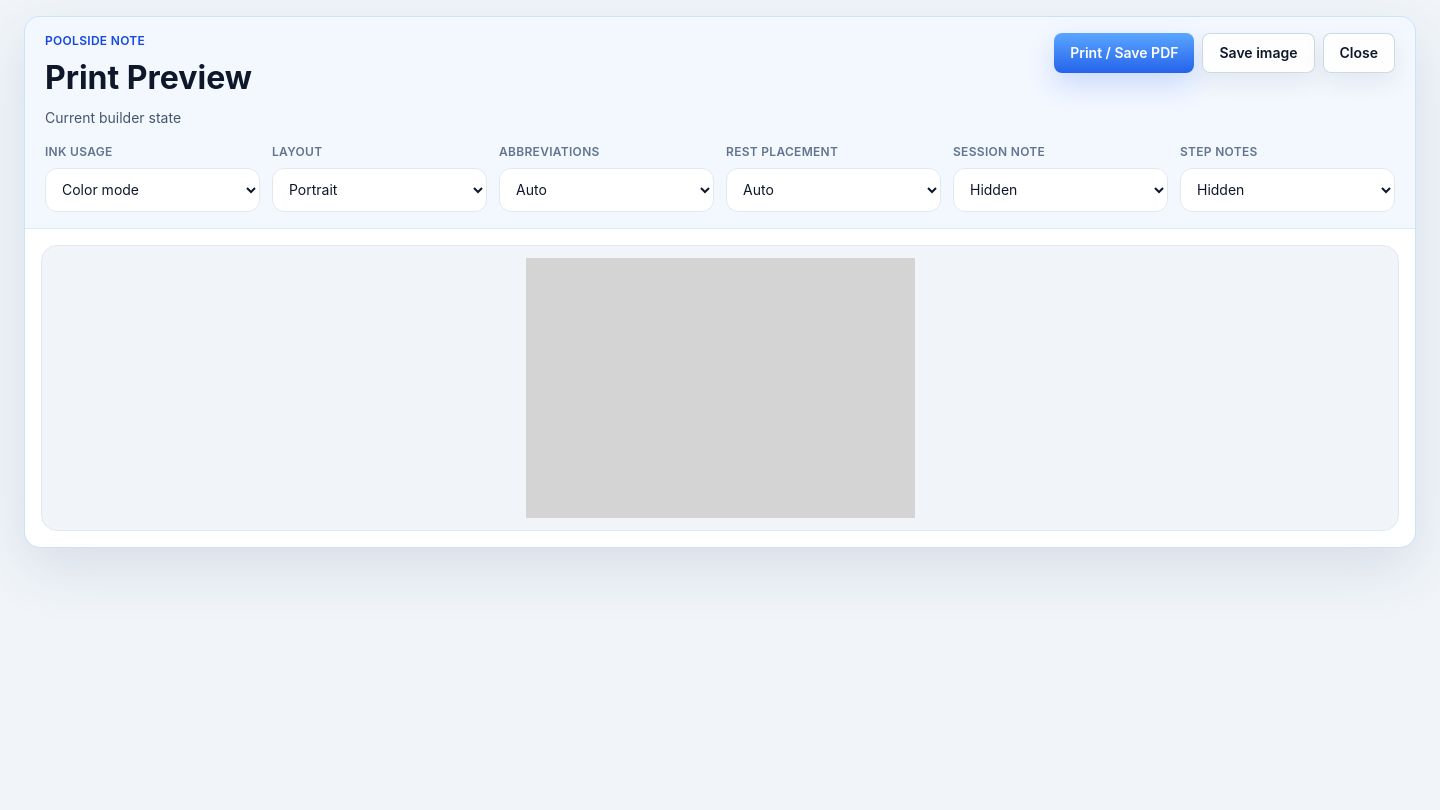
Scenario: PoolsidePreviewPageClient › uses native share on coarse-pointer devices when file sharing is available
Click the button with test id "poolside-preview-save-image". click: (1258, 53)
box: [1202,33,1314,73]
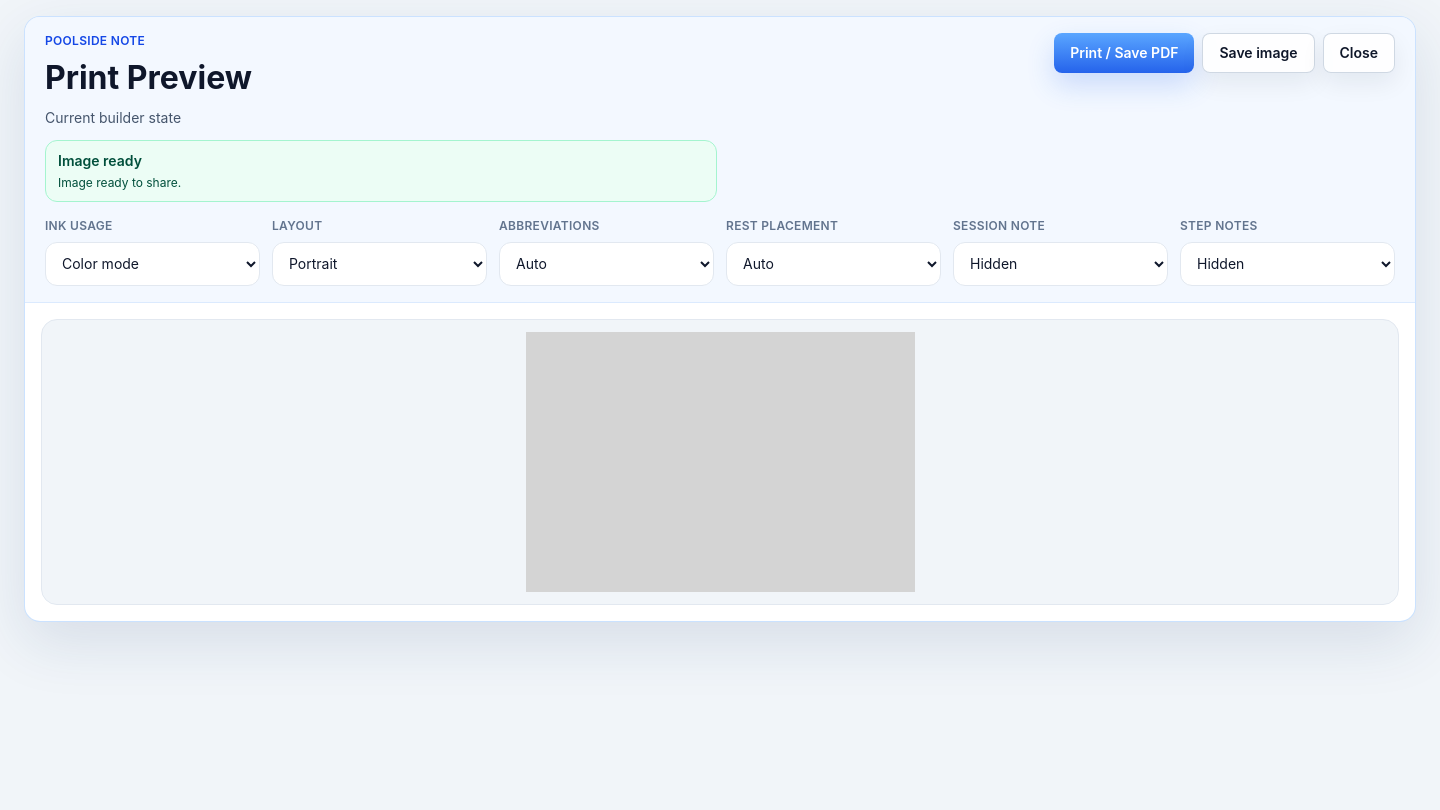
Now the message with test id "poolside-preview-save-image-notice" shows "Image ready to share.", box [58,175,181,190]
